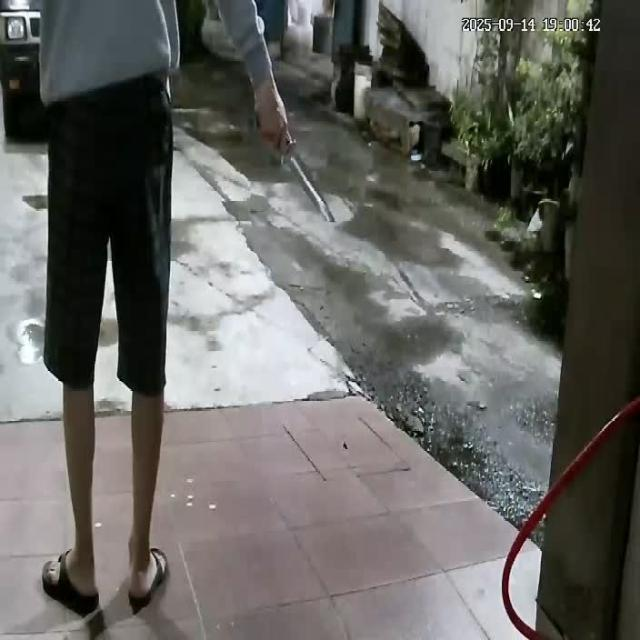senjata_tajam: (282, 143, 338, 227)
